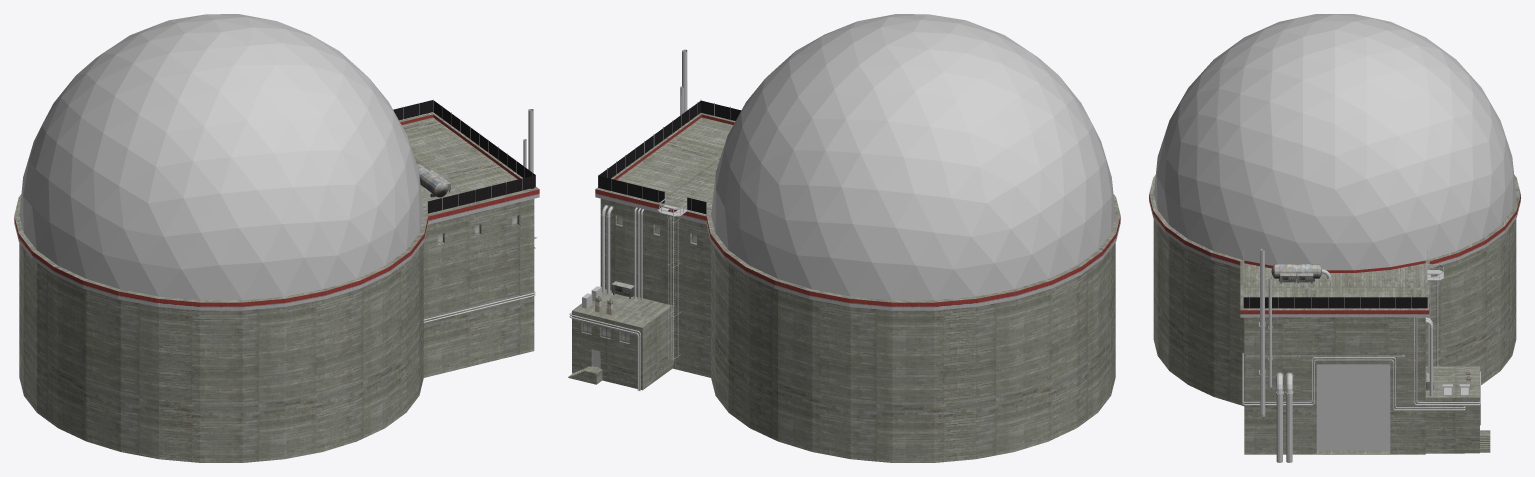
Rendered from building_1.fbx.
The picture shows the model from 3 angles, left to right: view 1: azimuth 30°, elevation 25°; view 2: azimuth 150°, elevation 25°; view 3: azimuth 270°, elevation 25°; orthographic projection. The views are drawn at different scales.
Parts seen in each view (by area): view 1: building_1_Layer1; view 2: building_1_Layer1, building_1_Layer2; view 3: building_1_Layer1, building_1_Layer2.
Part boxes in pixels (x1=…): building_1_Layer1: x1=14, y1=14, x2=539, y2=462; building_1_Layer1: x1=568, y1=14, x2=1120, y2=462; building_1_Layer2: x1=569, y1=205, x2=644, y2=390; building_1_Layer1: x1=1149, y1=14, x2=1520, y2=454; building_1_Layer2: x1=1242, y1=269, x2=1481, y2=462.
Size of the model in its own units: 8.3 by 6.04 by 6.52.
